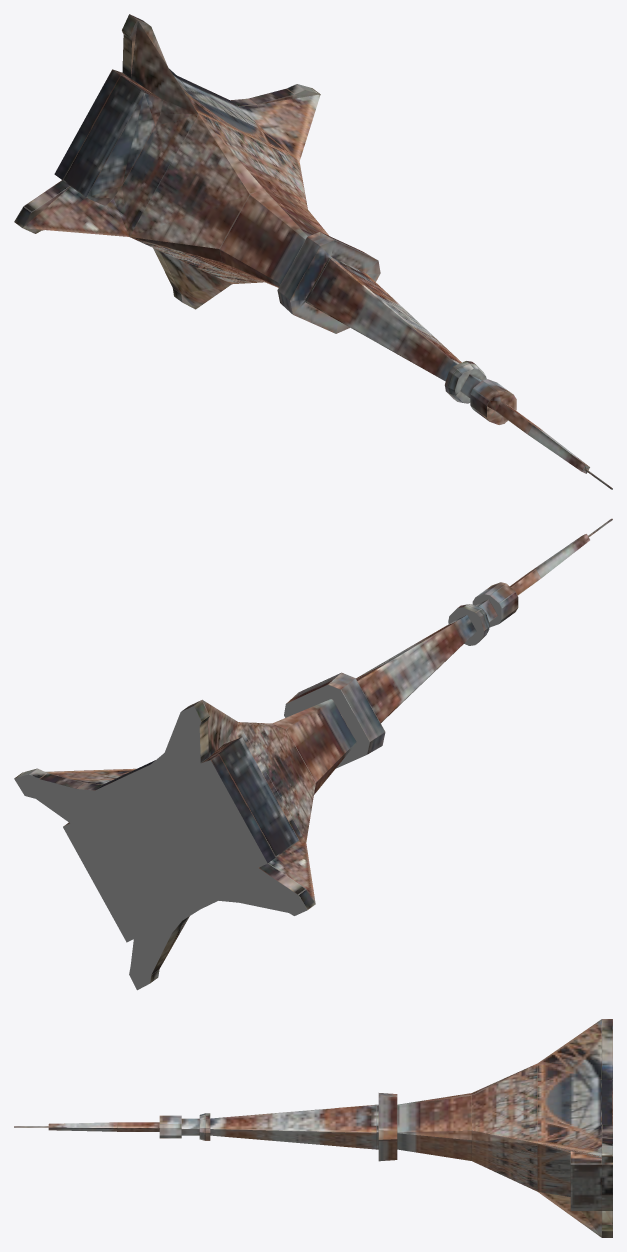
File: Tokyo Tower.fbx
3 views of the same model, one above another, from view 1: azimuth 30°, elevation 25°; view 2: azimuth 150°, elevation 25°; view 3: azimuth 270°, elevation 25° (orthographic). The views are drawn at different scales.
Parts seen in each view (by area): view 1: Tokyo Tower; view 2: Tokyo Tower; view 3: Tokyo Tower.
Part boxes in pixels (x1,y1,x2,y2): Tokyo Tower: (14,14,612,489); Tokyo Tower: (14,518,612,990); Tokyo Tower: (14,1019,612,1237).
Size of the model in its own units: 126 by 332 by 123.
2 materials, 1 textured.
